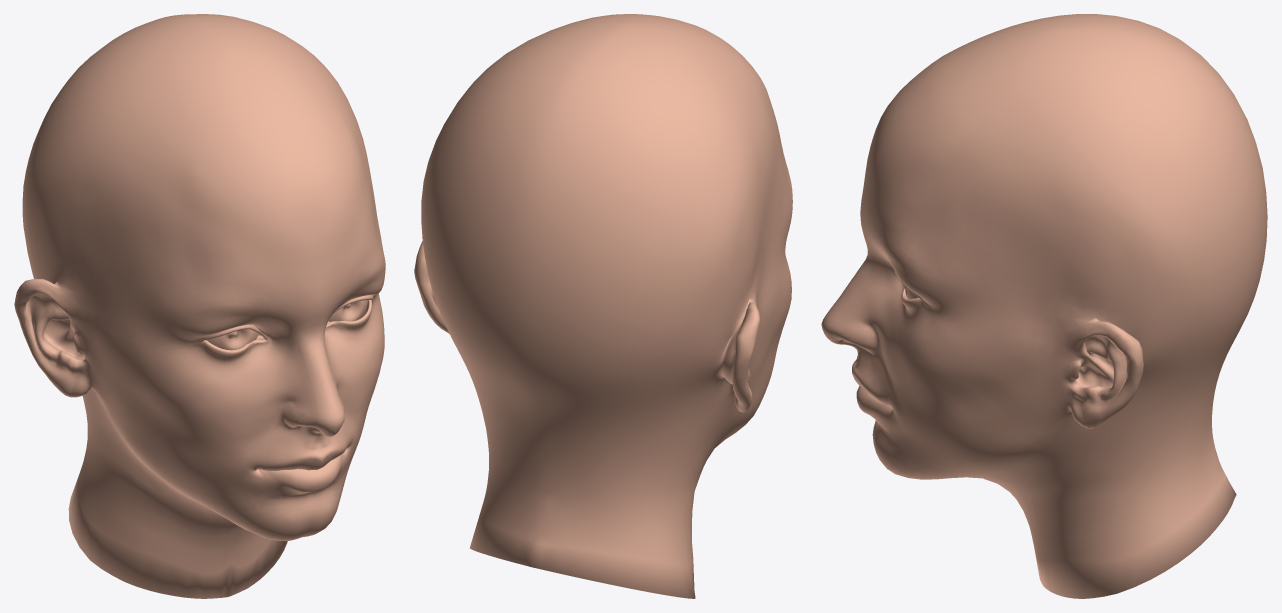
File: Head.glb
The picture shows the model from 3 angles, left to right: view 1: azimuth 30°, elevation 25°; view 2: azimuth 150°, elevation 25°; view 3: azimuth 270°, elevation 25°; orthographic projection. The views are drawn at different scales.
Parts seen in each view (by area): view 1: FemaleHead, eyes; view 2: FemaleHead; view 3: FemaleHead.
Boxes of the visible parts, x1,y1,x2,y2 form: FemaleHead: (14, 14, 385, 598); eyes: (206, 300, 367, 350); FemaleHead: (414, 14, 792, 598); FemaleHead: (821, 14, 1267, 598).
Size of the model in its own units: 1.27 by 2.01 by 1.48.
1 material, 1 textured.
